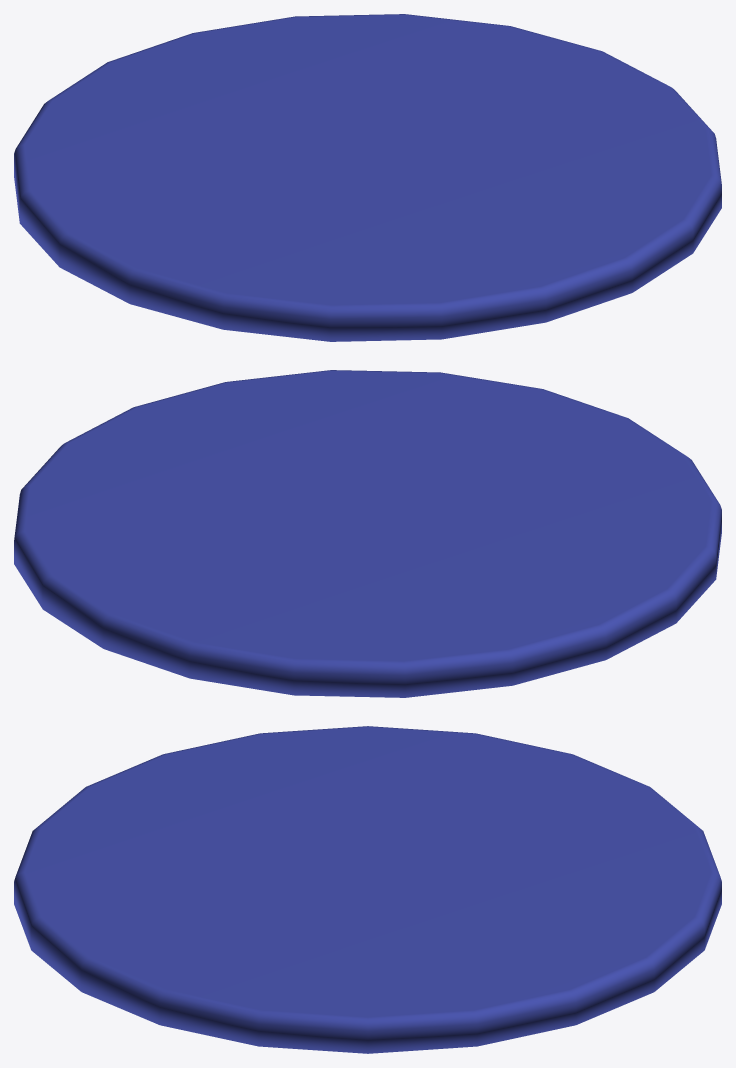
The model's file is DartBoard_Low.fbx.
The picture shows the model from 3 angles, top to bottom: view 1: azimuth 30°, elevation 25°; view 2: azimuth 150°, elevation 25°; view 3: azimuth 270°, elevation 25°; orthographic projection.
Parts seen in each view (by area): view 1: Board_Low; view 2: Board_Low; view 3: Board_Low.
Part boxes in pixels (x1,y1,x2,y2): Board_Low: (14,14,721,341); Board_Low: (14,370,721,697); Board_Low: (14,726,721,1053).
Bounding box in the file's own units: 4 × 0.2 × 4.
